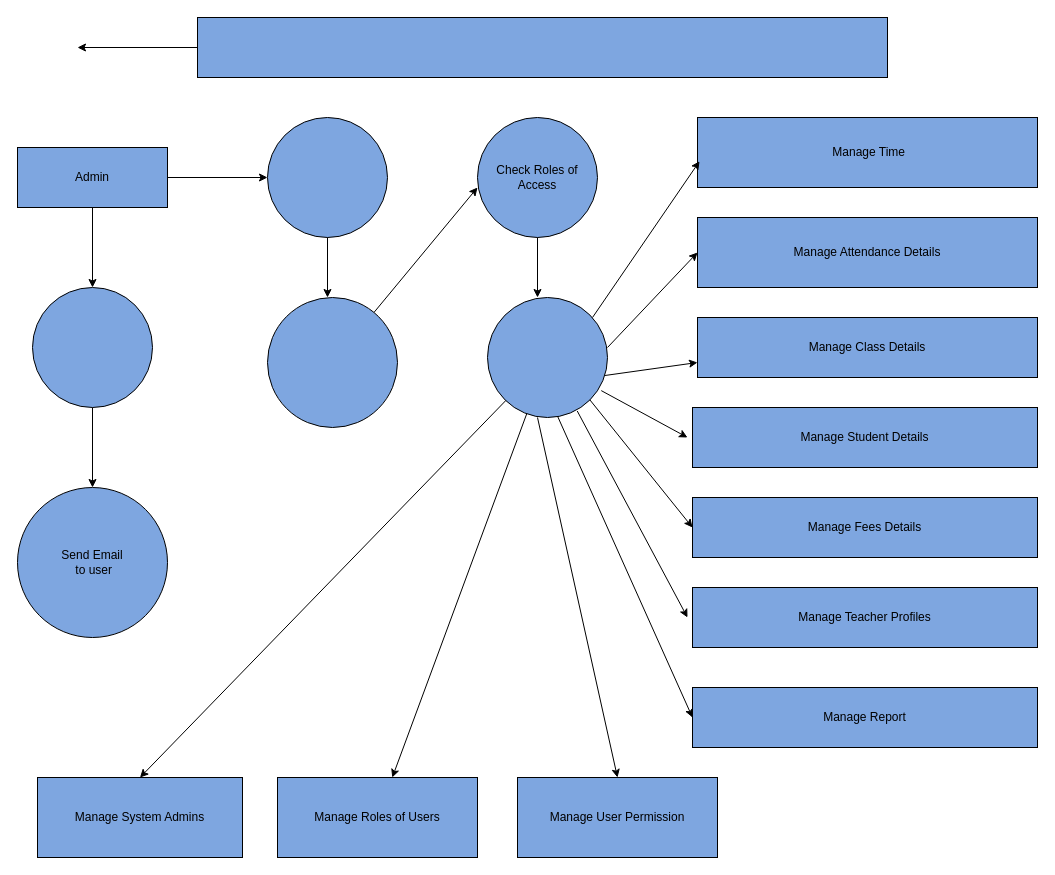
This 1055x875 diagram has some shape labels left out. The box of each missing label's shape, as (x1, y1, x2, y2) in pixels:
Check Credentials: (266, 296, 398, 428)
Forgot Password: (32, 286, 152, 408)
Login to System: (266, 116, 388, 238)
Manage Modules: (486, 296, 608, 418)
Student Information System: (196, 16, 888, 78)
